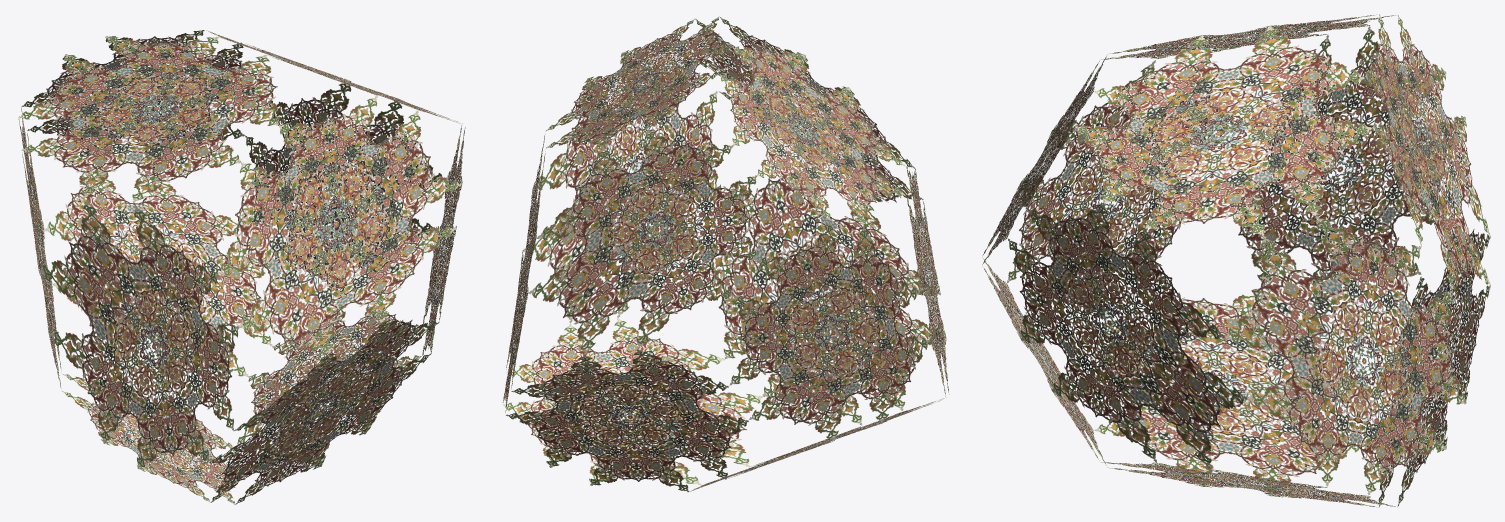
File: Tetartoid10.obj
The picture shows the model from 3 angles, left to right: view 1: azimuth 30°, elevation 25°; view 2: azimuth 150°, elevation 25°; view 3: azimuth 270°, elevation 25°; orthographic projection. The views are drawn at different scales.
Size of the model in its own units: 22 by 22 by 22.
Materials: 1 (1 with a texture image).
